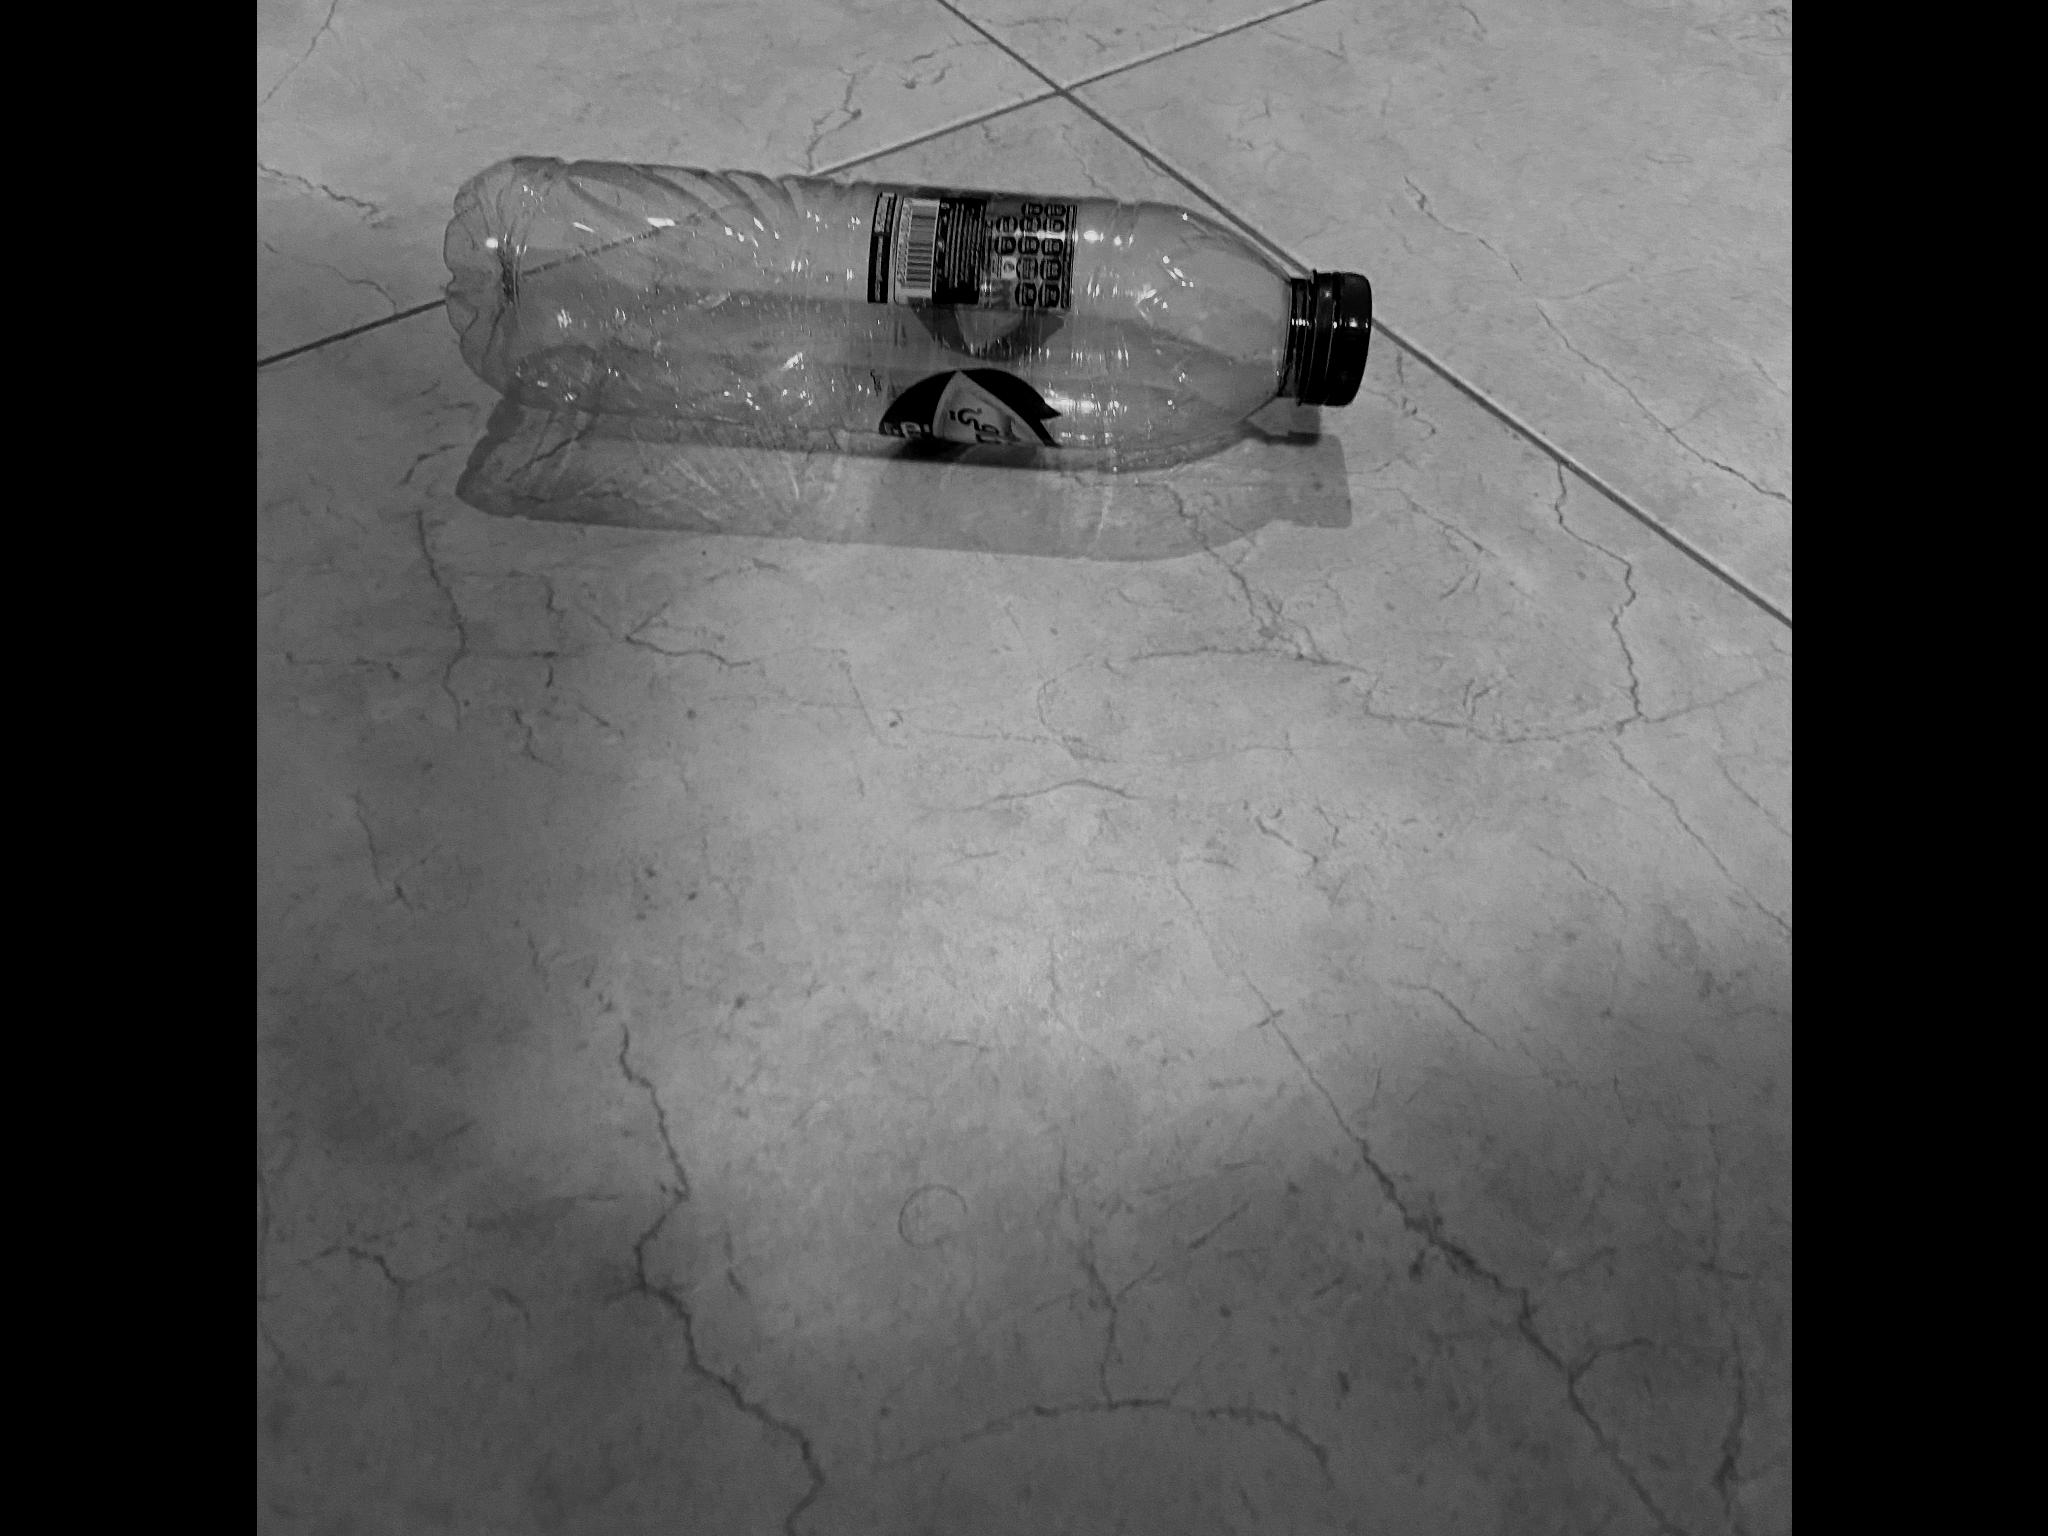bottle: (435, 142, 1395, 454)
